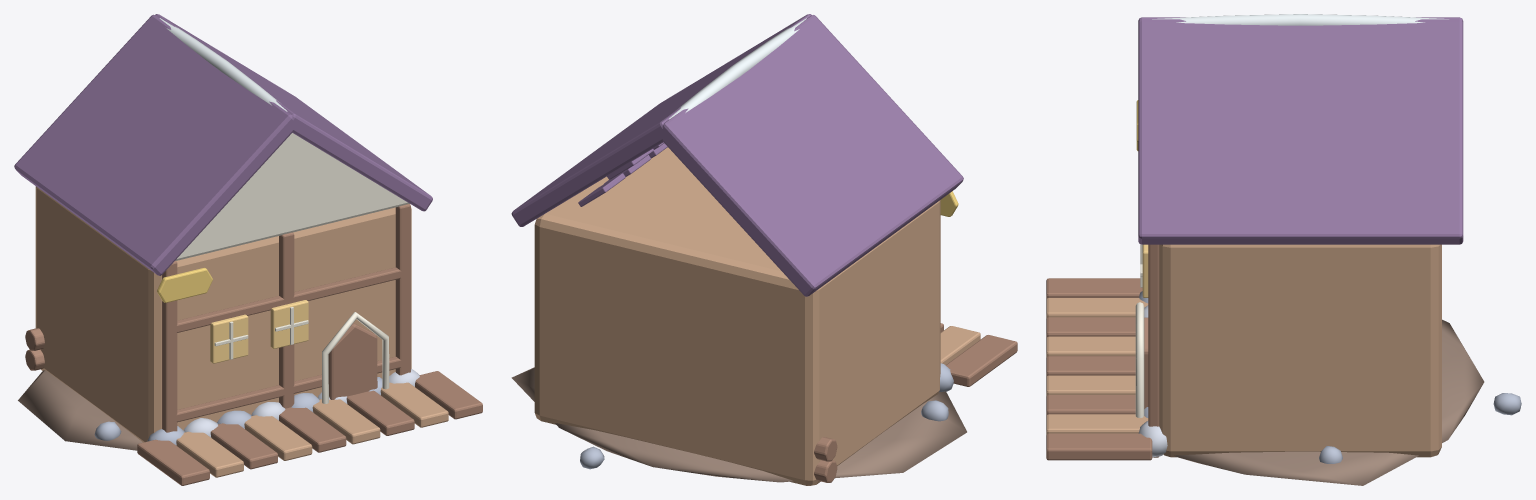
File: northern_mill_house.glb
3 renders of one model, left to right at view 1: azimuth 30°, elevation 25°; view 2: azimuth 150°, elevation 25°; view 3: azimuth 270°, elevation 25°, orthographic. The views are drawn at different scales.
Visible parts, largest first — view 1: northern_mill_house.001; view 2: northern_mill_house.001; view 3: northern_mill_house.001.
Boxes of the visible parts, left/top/right/bottom form: northern_mill_house.001: left=14, top=14, right=482, bottom=485; northern_mill_house.001: left=511, top=14, right=1017, bottom=485; northern_mill_house.001: left=1046, top=14, right=1521, bottom=485.
Size of the model in its own units: 14.04 by 11.73 by 13.45.
